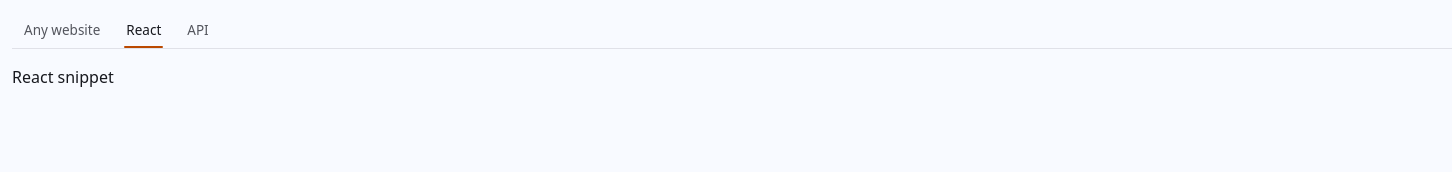
Test case: Tabs › supports Home and End
Click the tab "React". click: click(144, 30)
box: [114,12,173,48]
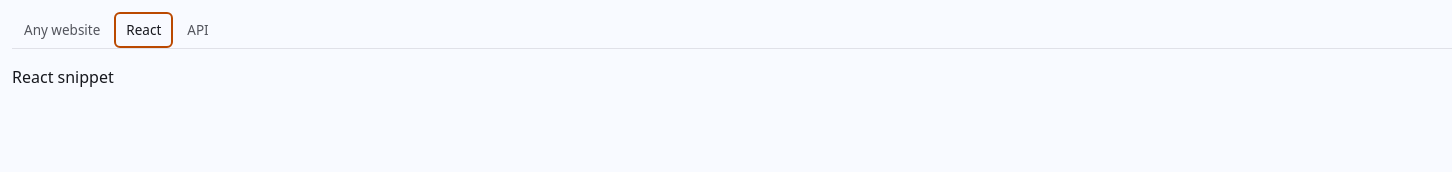
Press End
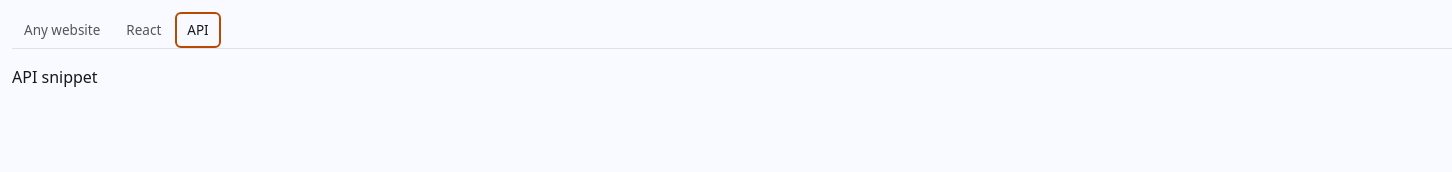
Check: the tab "API" is selected, box [175,12,221,48]
Press Home
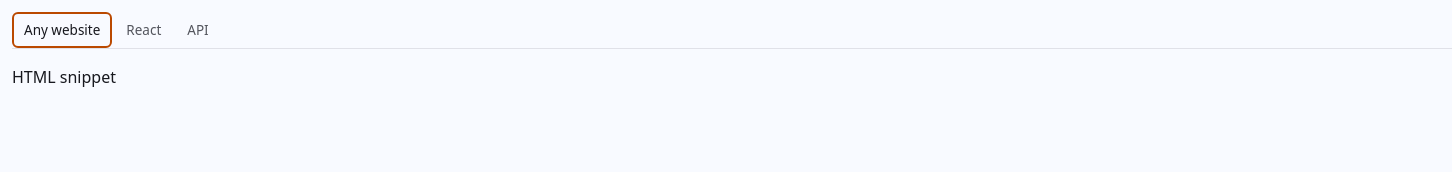
Check: the tab "Any website" is selected, box [12,12,112,48]
